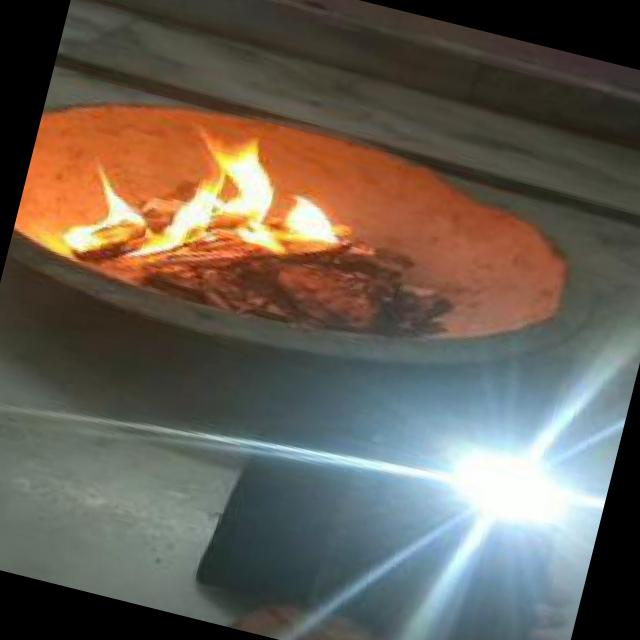fire: (38, 96, 364, 317)
